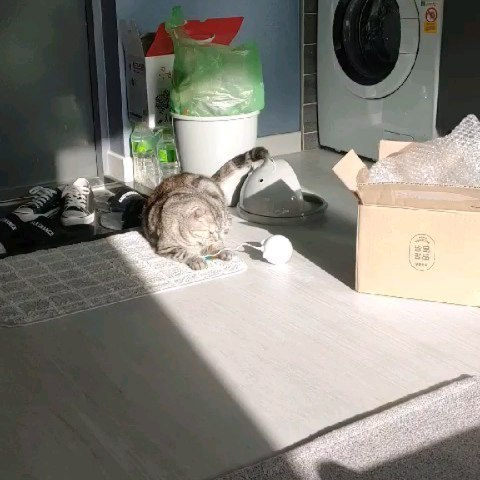cat: (148, 189, 217, 258)
